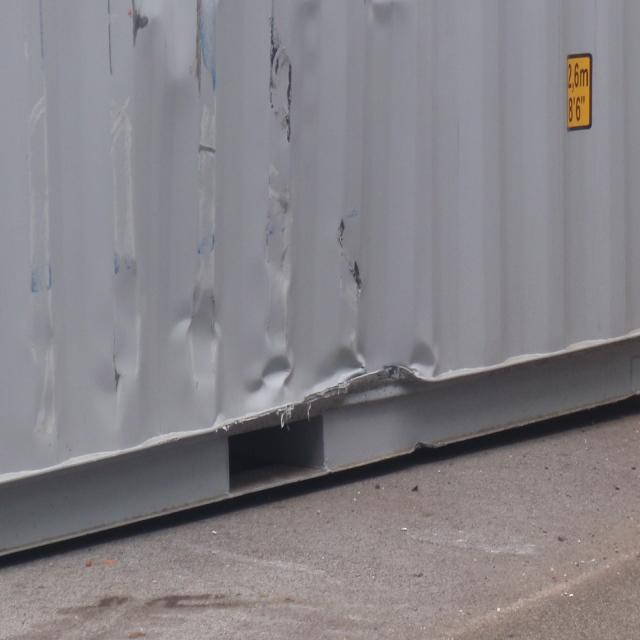dent: (31, 250, 447, 417), (294, 1, 402, 23), (267, 189, 291, 226)
